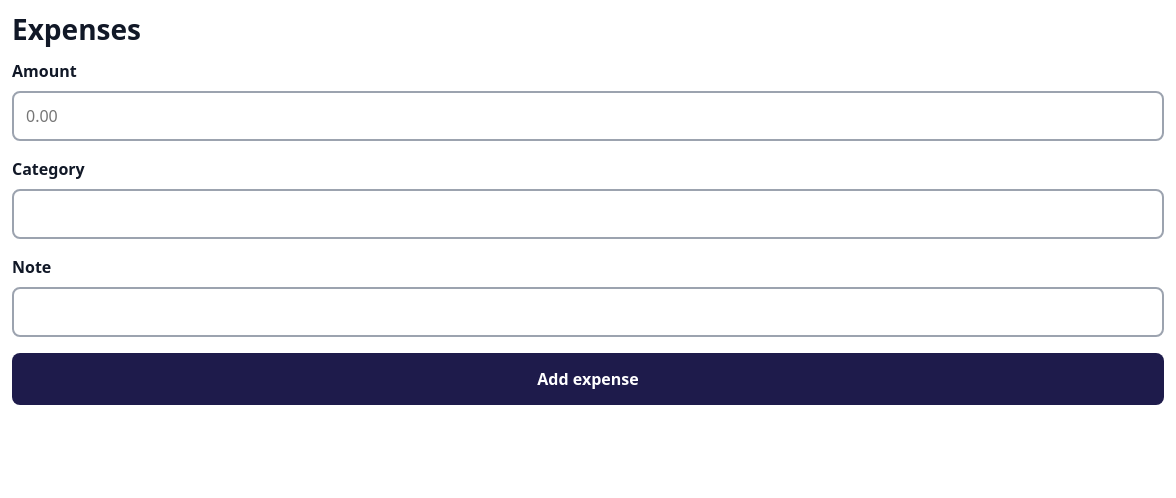
Test case: ExpensesScreen + ExpenseForm › shows a validation error when amount is not a valid NUMERIC(12,2) string
Type "not-a-number" into the field labelled "Amount".
click(588, 116); type("not-a-number")  # box [12,91,1164,141]
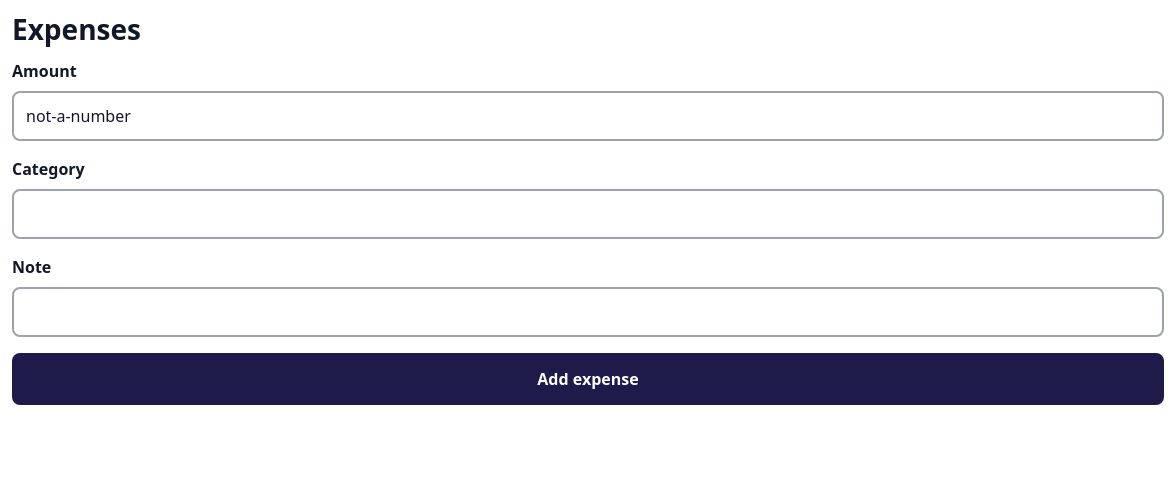
Type "utilities" into the field labelled "Category".
click(588, 214); type("utilities")  # box [12,189,1164,239]
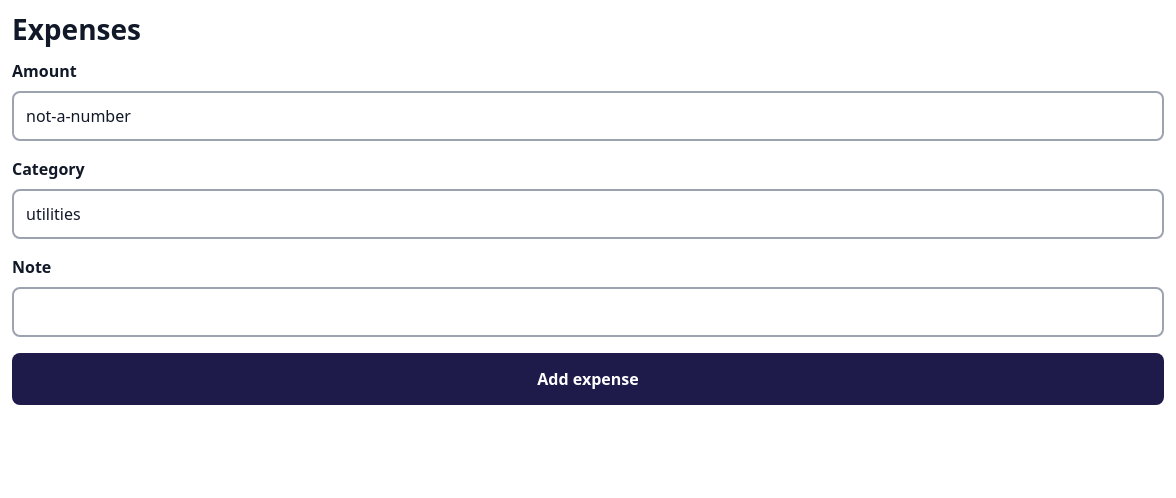
Click the button "Add expense".
click(588, 379)  # box [12,353,1164,405]
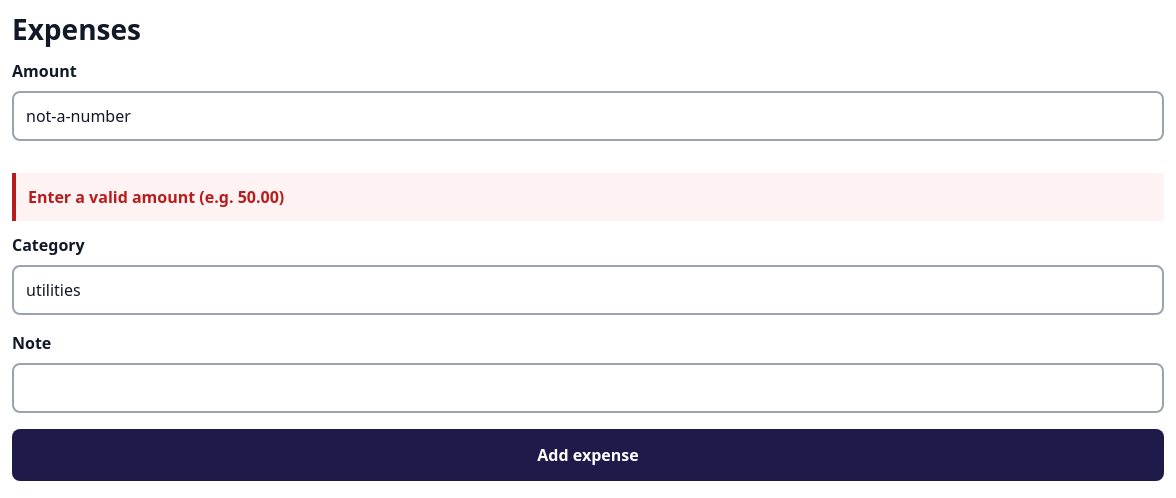
Expected: the text "Enter a valid amount (e.g. 50.00)" is shown, [12,173,1164,221]
